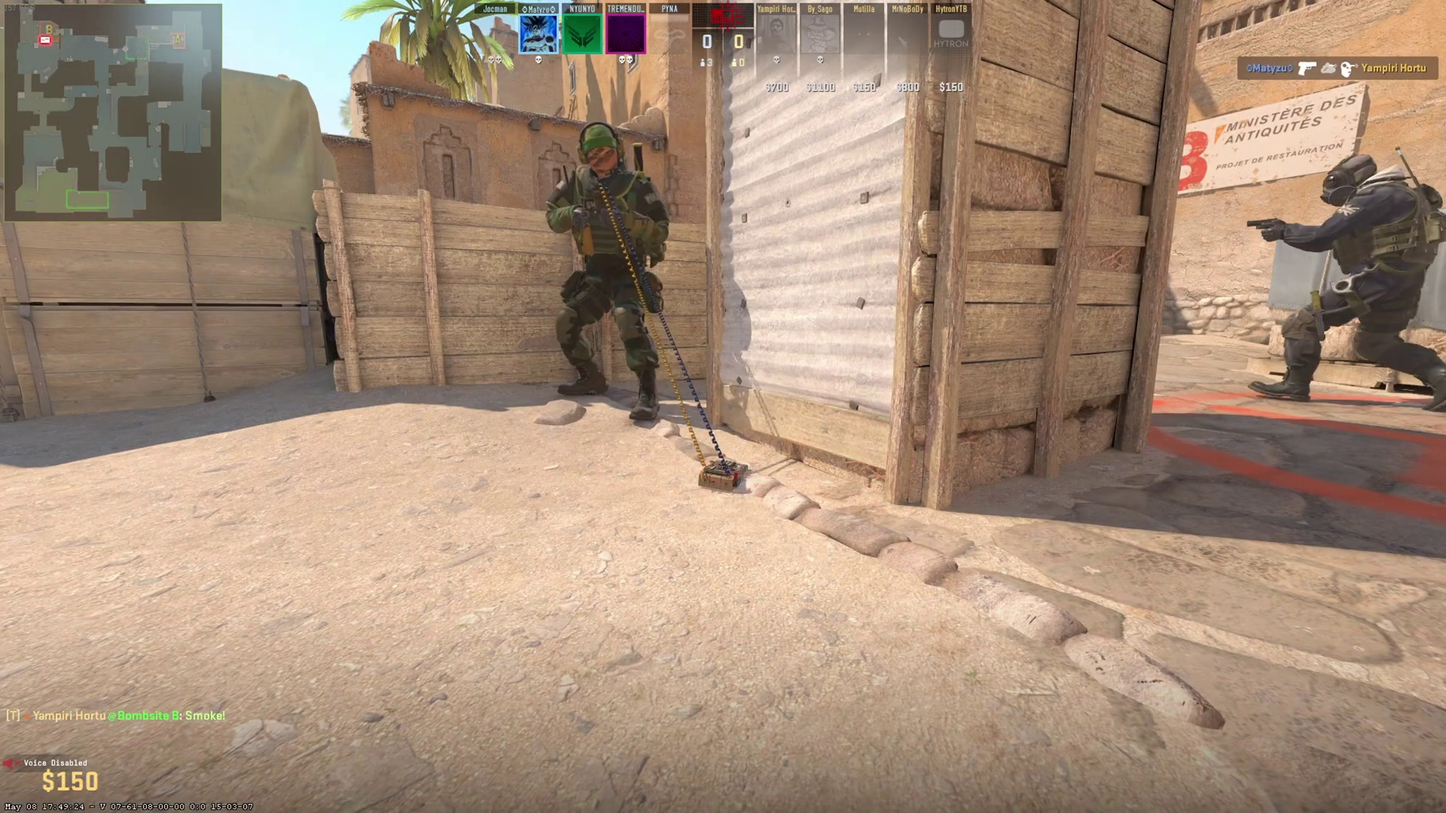CT: (1247, 156, 1446, 397), (546, 121, 657, 421)
